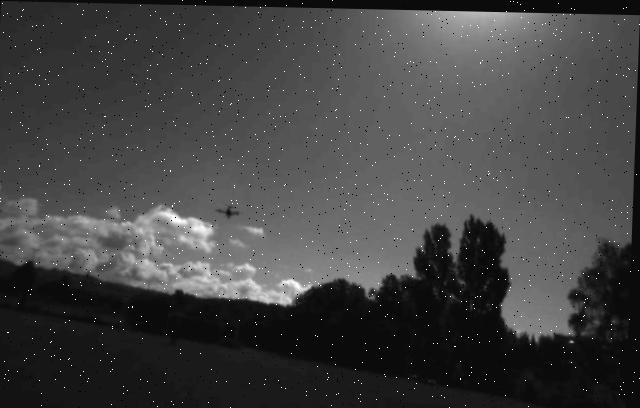drone: (214, 199, 242, 217)
